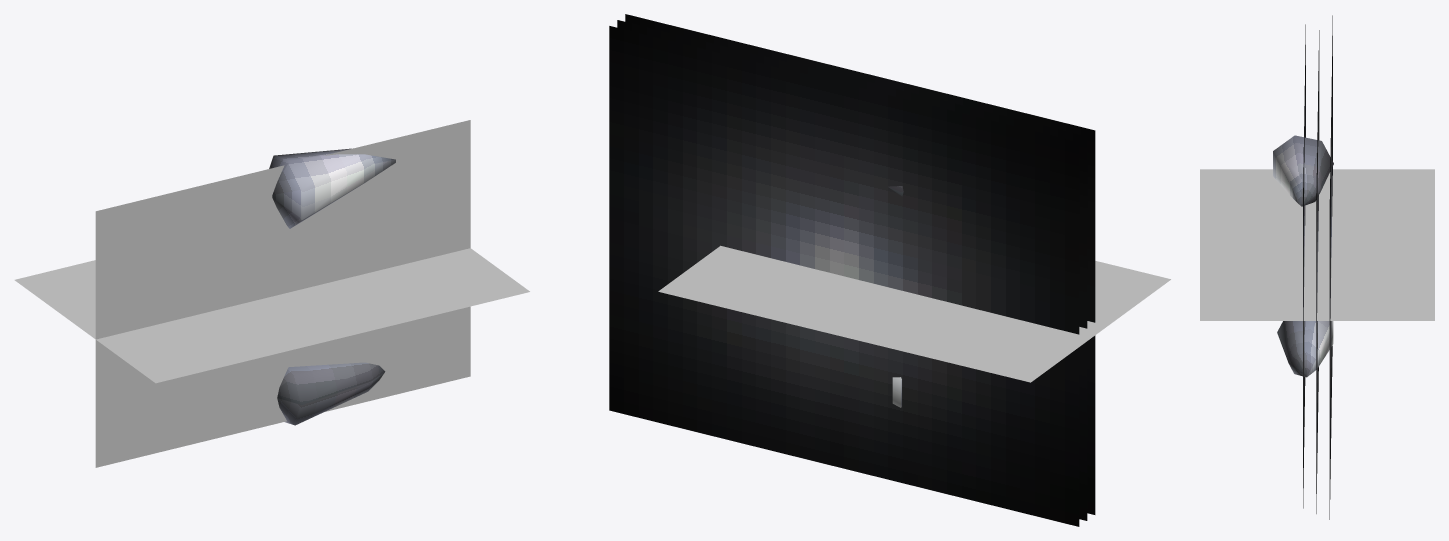
File: AZ_Dragonus_C.MDX_mdx.gltf
3 views of the same model, side by side, from view 1: azimuth 30°, elevation 25°; view 2: azimuth 150°, elevation 25°; view 3: azimuth 270°, elevation 25° (orthographic). The views are drawn at different scales.
Parts seen in each view (by area): view 1: War3Model; view 2: War3Model; view 3: War3Model.
Boxes of the visible parts, x1,y1,x2,y2 form: War3Model: [14, 120, 529, 467]; War3Model: [609, 14, 1170, 526]; War3Model: [1200, 15, 1434, 519].
Bounding box in the file's own units: 174 × 132 × 87.5.
